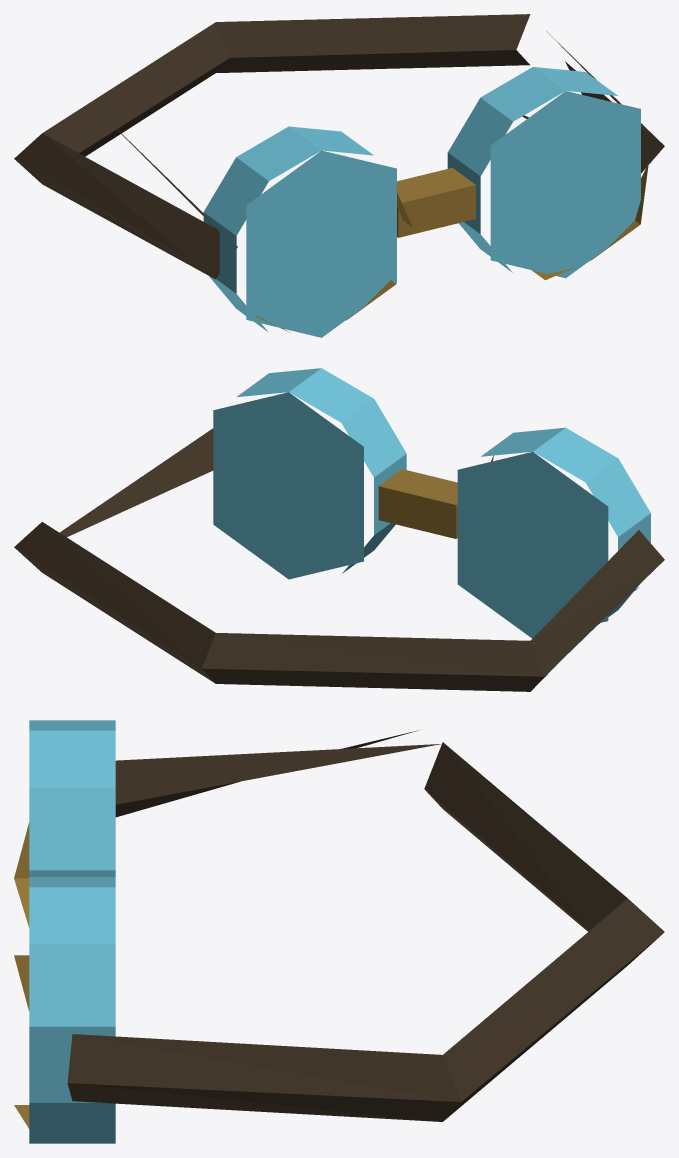
The model's file is goggles.lod.glb.
3 views of the same model, one above another, from view 1: azimuth 30°, elevation 25°; view 2: azimuth 150°, elevation 25°; view 3: azimuth 270°, elevation 25° (orthographic). The views are drawn at different scales.
Visible parts, largest first — view 1: m; view 2: m; view 3: m.
Part boxes in pixels (left/top/right/bottom): m: left=14, top=14, right=664, bottom=337; m: left=14, top=368, right=664, bottom=691; m: left=14, top=720, right=664, bottom=1143.
Bounding box in the file's own units: 0.1225 × 0.0405 × 0.0971.
